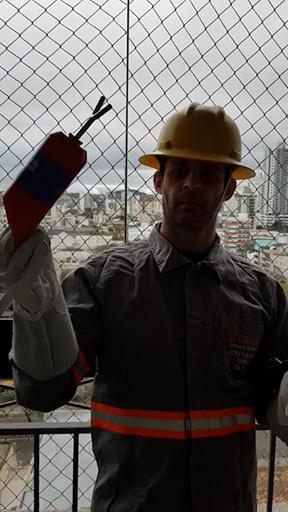Detector_Tensao_Contato: (3, 94, 115, 238)
